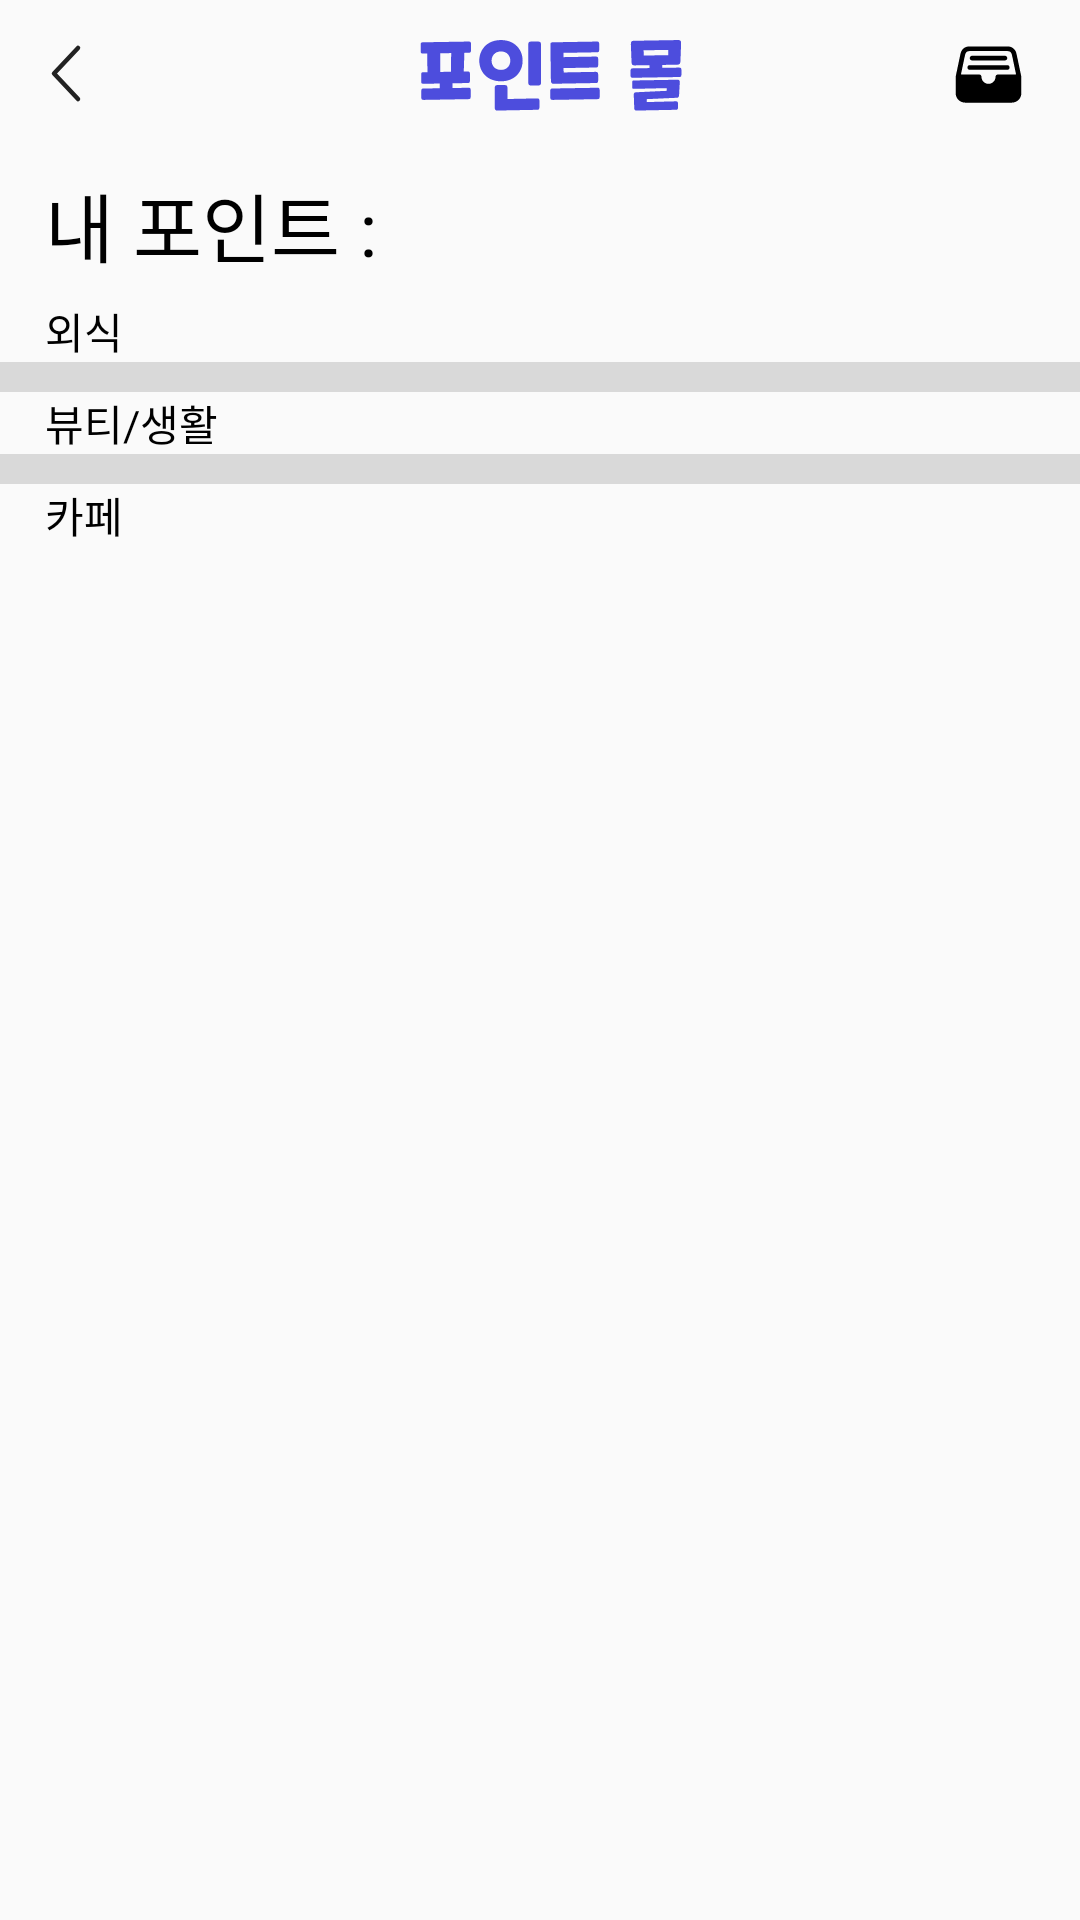

Icons on this 1080x1920 Android screen, each with the point to tap as (x=x, y=y):
back: (x=66, y=73)
